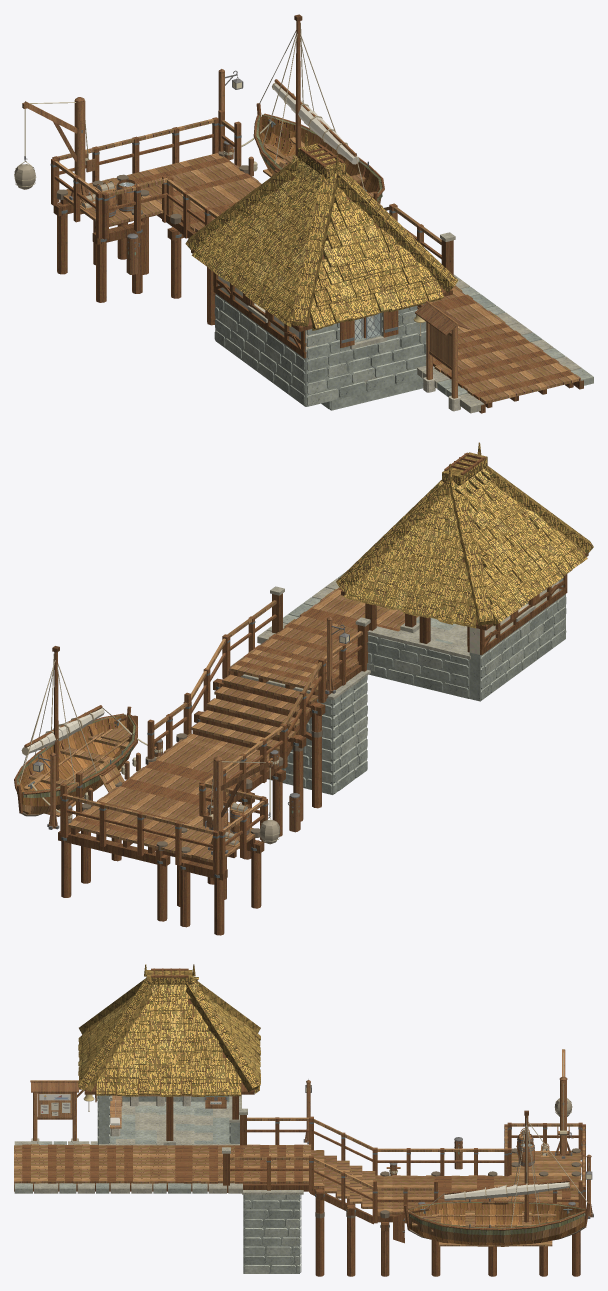
File: haven.glb
3 renders of one model, top to bottom at view 1: azimuth 30°, elevation 25°; view 2: azimuth 150°, elevation 25°; view 3: azimuth 270°, elevation 25°, orthographic. The views are drawn at different scales.
Visible parts, largest first — view 1: Haven_RoofThatch, Haven_ShellWest, Haven_RoofRidge, Haven_DeckPier, Haven_PierRail, Haven_DeckLanding, Haven_PierFrame, Haven_ShellNorth, Haven_FurnishingPropsMooring, Haven_PierStone, Haven_ServiceBoat_Rig, Haven_ServiceBoat_Hull (+4 smaller); view 2: Haven_RoofThatch, Haven_PierFrame, Haven_PierRail, Haven_DeckLanding, Haven_RoofRidge, Haven_DeckPier, Haven_PierStone, Haven_ShellNorth, Haven_ShellEast, Haven_FurnishingPropsMooring, Haven_ServiceBoat_Hull, Haven_StairFlight (+5 smaller); view 3: Haven_RoofThatch, Haven_DeckPier, Haven_PierStone, Haven_PierRail, Haven_ServiceBoat_Hull, Haven_RoofRidge, Haven_DeckLanding, Haven_PierFrame, Haven_FloorShelter, Haven_ServiceBoat_Rig, Haven_ServiceNotice_Board, Haven_FurnishingPropsMooring (+7 smaller).
Boxes of the visible parts, left/top/right/bottom form: Haven_RoofThatch: left=191, top=167, right=444, bottom=330; Haven_ShellWest: left=299, top=304, right=426, bottom=406; Haven_RoofRidge: left=185, top=133, right=458, bottom=326; Haven_DeckPier: left=370, top=285, right=580, bottom=403; Haven_PierRail: left=50, top=109, right=455, bottom=275; Haven_DeckLanding: left=63, top=153, right=261, bottom=231; Haven_PierFrame: left=53, top=151, right=583, bottom=413; Haven_ShellNorth: left=214, top=276, right=316, bottom=406; Haven_FurnishingPropsMooring: left=14, top=69, right=271, bottom=274; Haven_PierStone: left=321, top=274, right=593, bottom=413; Haven_ServiceBoat_Rig: left=259, top=14, right=364, bottom=188; Haven_ServiceBoat_Hull: left=253, top=103, right=384, bottom=203; Haven_RoofThatch: left=343, top=475, right=587, bottom=628; Haven_PierFrame: left=58, top=642, right=361, bottom=935; Haven_PierRail: left=60, top=586, right=370, bottom=874; Haven_DeckLanding: left=68, top=733, right=279, bottom=862; Haven_RoofRidge: left=336, top=442, right=593, bottom=625; Haven_DeckPier: left=229, top=587, right=418, bottom=691; Haven_PierStone: left=230, top=572, right=374, bottom=794; Haven_ShellNorth: left=469, top=581, right=566, bottom=701; Haven_ShellEast: left=367, top=626, right=470, bottom=698; Haven_FurnishingPropsMooring: left=31, top=616, right=349, bottom=854; Haven_ServiceBoat_Hull: left=14, top=706, right=137, bottom=816; Haven_StairFlight: left=191, top=674, right=318, bottom=751; Haven_RoofThatch: left=78, top=986, right=260, bottom=1096; Haven_DeckPier: left=14, top=1144, right=311, bottom=1183; Haven_PierStone: left=14, top=1141, right=303, bottom=1273; Haven_PierRail: left=222, top=1108, right=585, bottom=1223; Haven_ServiceBoat_Hull: left=404, top=1201, right=590, bottom=1246; Haven_RoofRidge: left=78, top=964, right=260, bottom=1092; Haven_DeckLanding: left=375, top=1151, right=581, bottom=1214; Haven_PierFrame: left=14, top=1148, right=580, bottom=1276; Haven_FloorShelter: left=99, top=1101, right=239, bottom=1145; Haven_ServiceBoat_Rig: left=424, top=1110, right=587, bottom=1227; Haven_ServiceNotice_Board: left=30, top=1080, right=94, bottom=1144; Haven_FurnishingPropsMooring: left=303, top=1049, right=593, bottom=1218.
Size of the model in its own units: 10.38 by 9.69 by 20.48.
31 materials, 22 textured.
